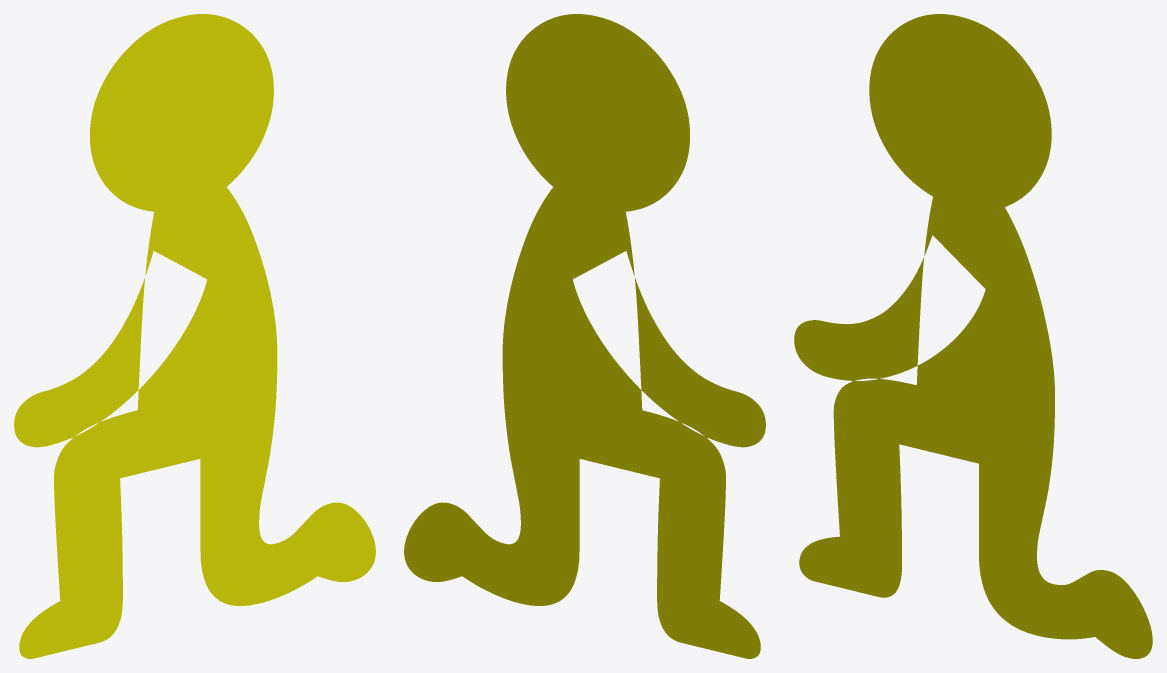
File: kneeling_person.glb
The picture shows the model from 3 angles, left to right: view 1: azimuth 30°, elevation 25°; view 2: azimuth 150°, elevation 25°; view 3: azimuth 330°, elevation 25°; orthographic projection.
Visible parts, largest first — view 1: Text.931_931; view 2: Text.931_931; view 3: Text.931_931.
Boxes of the visible parts, box(x1,y1,x2,y2) form: Text.931_931: box(14, 14, 375, 658); Text.931_931: box(404, 14, 765, 658); Text.931_931: box(794, 14, 1152, 658).
Size of the model in its own units: 0.635 by 1.02 by 3.6e-06.
